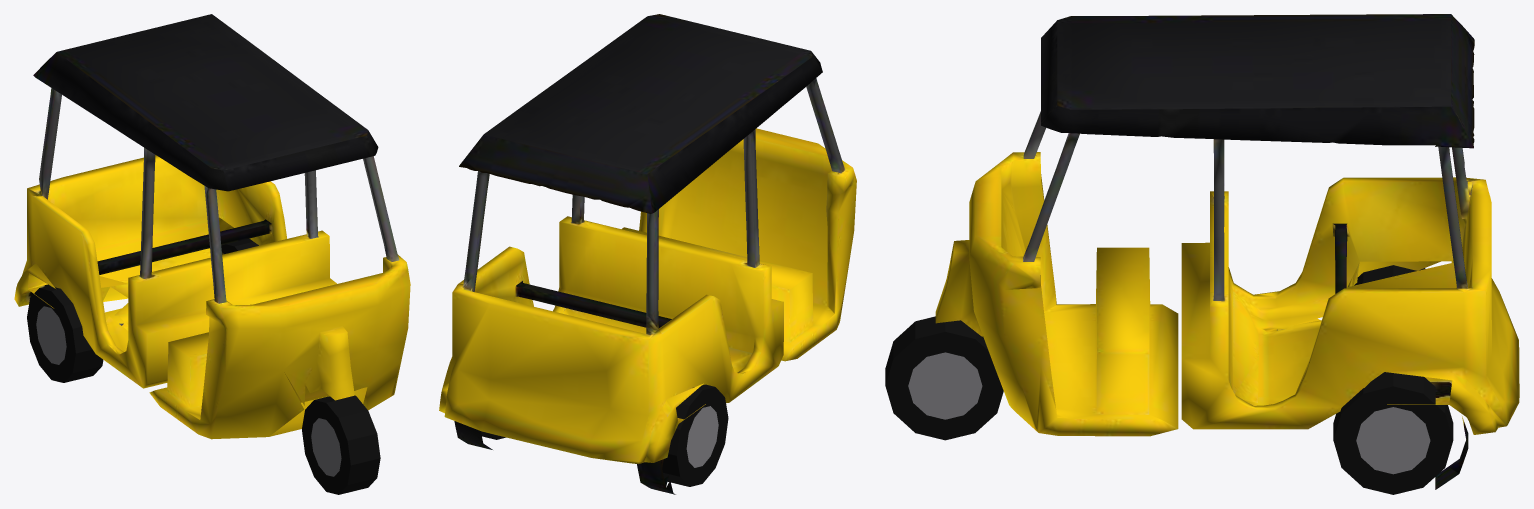
The model's file is keke.glb.
3 views of the same model, side by side, from view 1: azimuth 30°, elevation 25°; view 2: azimuth 150°, elevation 25°; view 3: azimuth 270°, elevation 25° (orthographic). The views are drawn at different scales.
Parts seen in each view (by area): view 1: keke, wheel_f, wheel_rr; view 2: keke, wheel_rr; view 3: keke, wheel_rl, wheel_f.
Part boxes in pixels (box(x1,y1,x2,y2)): keke: box(14, 14, 410, 439); wheel_f: box(302, 395, 380, 494); wheel_rr: box(27, 285, 103, 382); keke: box(439, 14, 856, 494); wheel_rr: box(662, 384, 728, 486); keke: box(935, 14, 1519, 489); wheel_rl: box(1333, 372, 1453, 494); wheel_f: box(885, 316, 1003, 440).
Bounding box in the file's own units: 1.51 × 2.05 × 3.18.
Materials: 1 (1 with a texture image).
